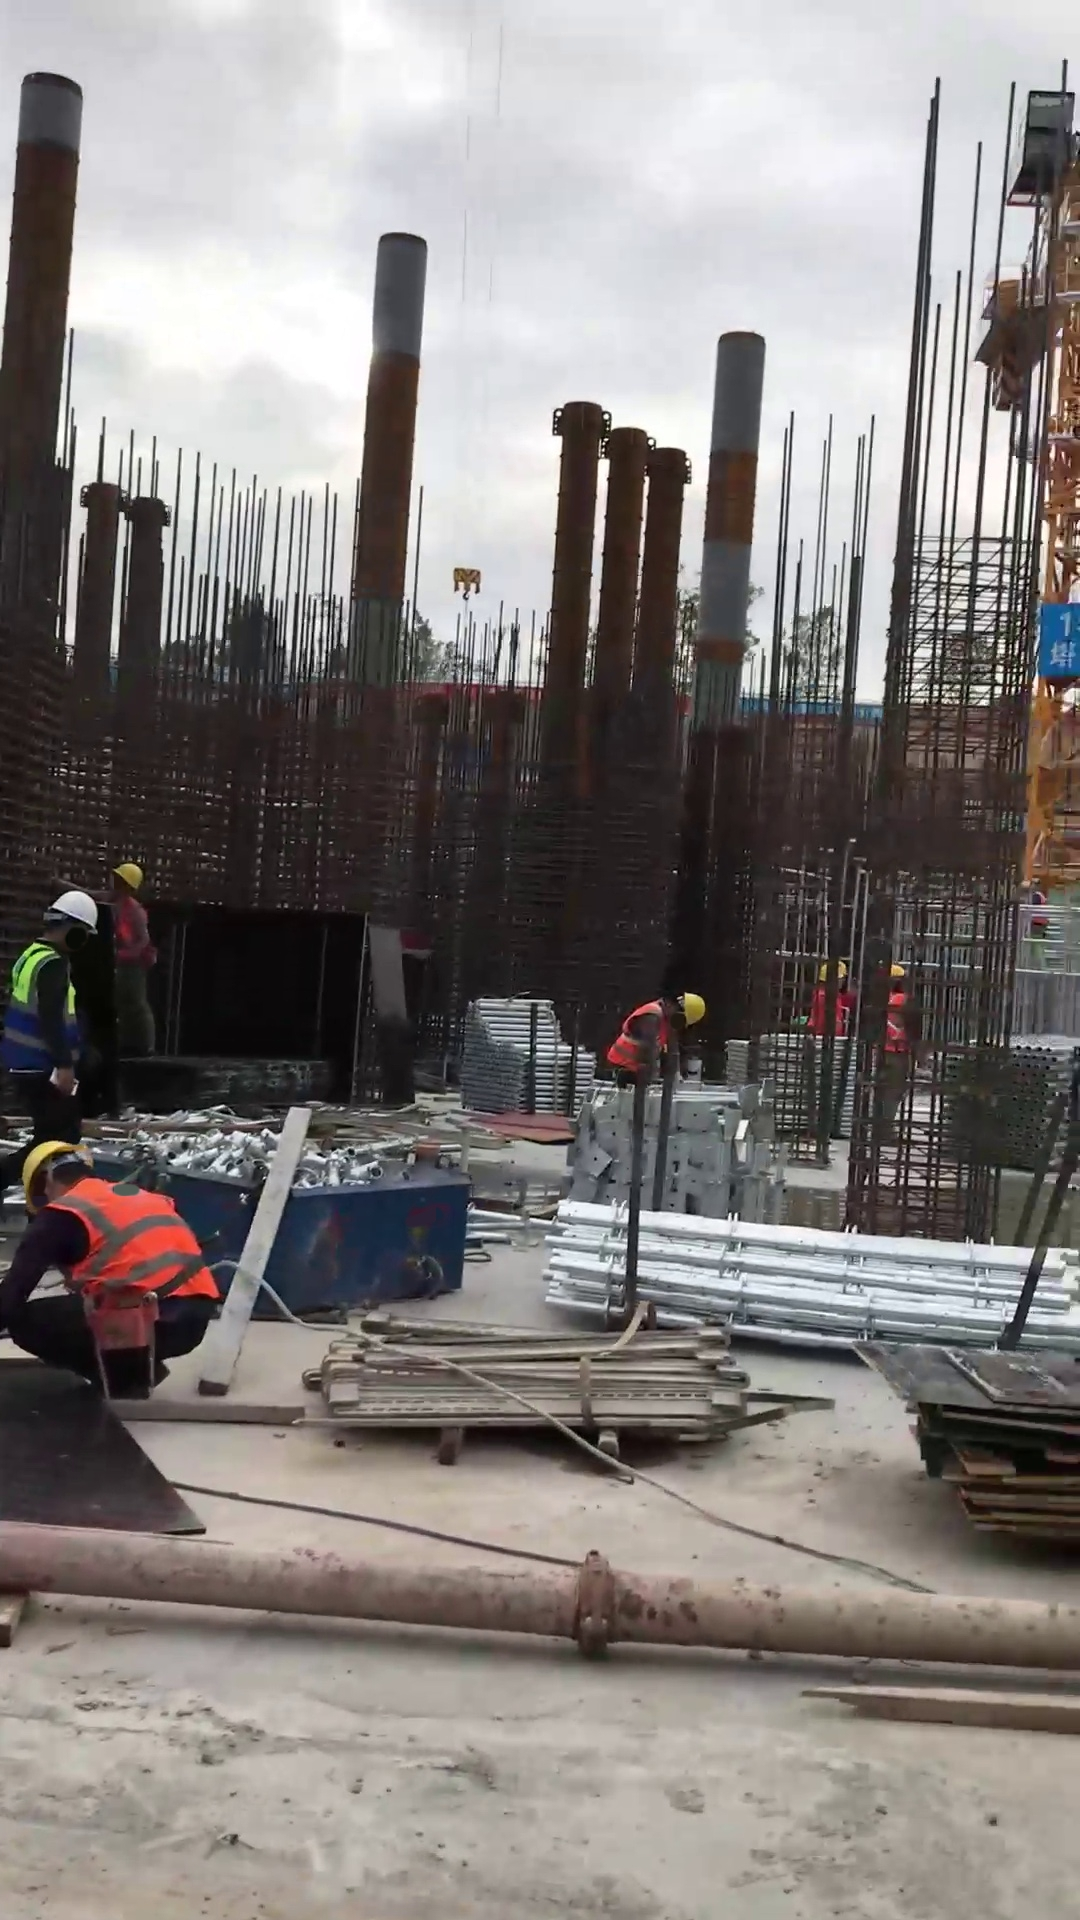board: (852, 1336, 1080, 1539)
helmet: (20, 1140, 95, 1216), (39, 889, 102, 937), (672, 989, 707, 1028), (110, 860, 144, 893), (815, 956, 848, 983), (885, 962, 904, 983)
hook: (451, 562, 484, 604)
hopper: (89, 1145, 472, 1313)
person: (1, 1136, 223, 1397), (1, 888, 101, 1143), (103, 858, 161, 1062), (604, 988, 707, 1090), (872, 961, 913, 1154)
scaffold: (539, 1194, 1080, 1359), (947, 1028, 1076, 1173), (459, 993, 596, 1115), (724, 1031, 856, 1141)
slogan: (1042, 609, 1080, 675)
vest: (45, 1177, 220, 1304), (3, 942, 85, 1074), (606, 997, 671, 1073), (113, 896, 152, 969), (878, 988, 914, 1055), (806, 987, 845, 1040)
